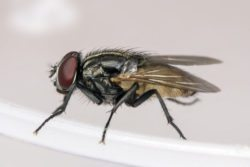phorid fly: (26, 24, 230, 153)
